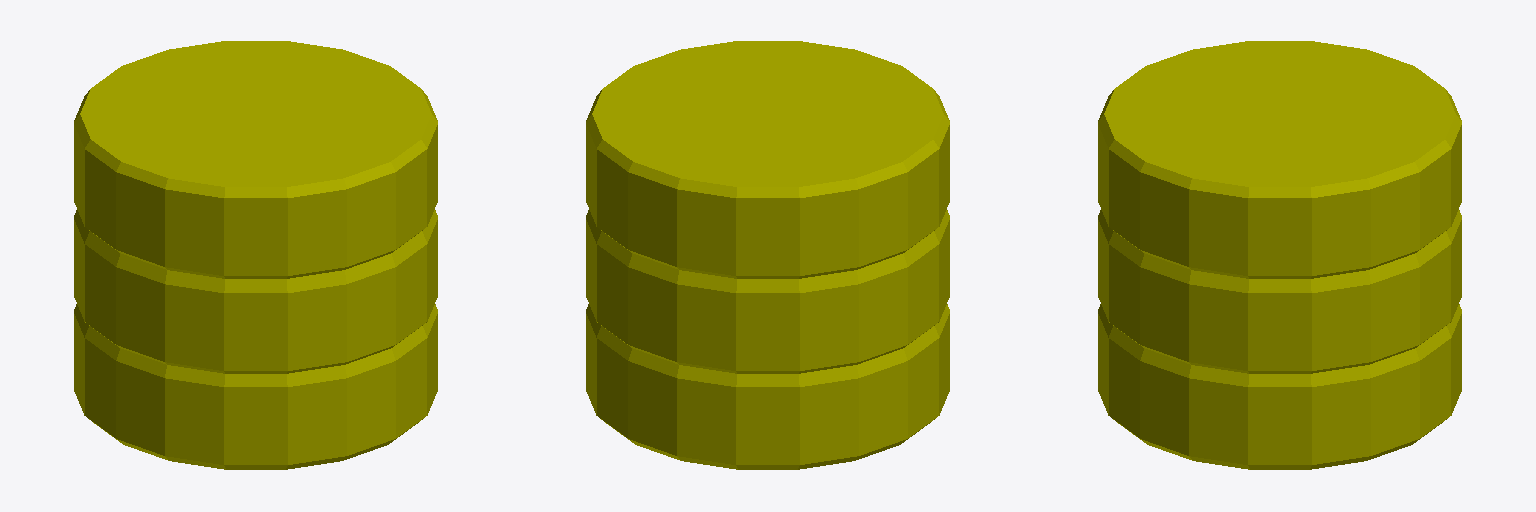
Rendered from tire_barrier.obj.
3 views of the same model, side by side, from view 1: azimuth 30°, elevation 25°; view 2: azimuth 150°, elevation 25°; view 3: azimuth 270°, elevation 25° (orthographic).
Visible parts, largest first — view 1: Cylinder.002_Cylinder.002_None, Cylinder.003_Cylinder.004_None, Cylinder.001_Cylinder.003_None; view 2: Cylinder.002_Cylinder.002_None, Cylinder.003_Cylinder.004_None, Cylinder.001_Cylinder.003_None; view 3: Cylinder.002_Cylinder.002_None, Cylinder.003_Cylinder.004_None, Cylinder.001_Cylinder.003_None.
Boxes of the visible parts, x1,y1,x2,y2 form: Cylinder.002_Cylinder.002_None: [74, 41, 437, 278]; Cylinder.003_Cylinder.004_None: [74, 304, 437, 469]; Cylinder.001_Cylinder.003_None: [74, 210, 437, 373]; Cylinder.002_Cylinder.002_None: [586, 41, 949, 278]; Cylinder.003_Cylinder.004_None: [586, 304, 949, 469]; Cylinder.001_Cylinder.003_None: [586, 210, 949, 373]; Cylinder.002_Cylinder.002_None: [1098, 41, 1461, 278]; Cylinder.003_Cylinder.004_None: [1098, 304, 1461, 469]; Cylinder.001_Cylinder.003_None: [1098, 210, 1461, 373].
Bounding box in the file's own units: 1.97 × 1.72 × 2.